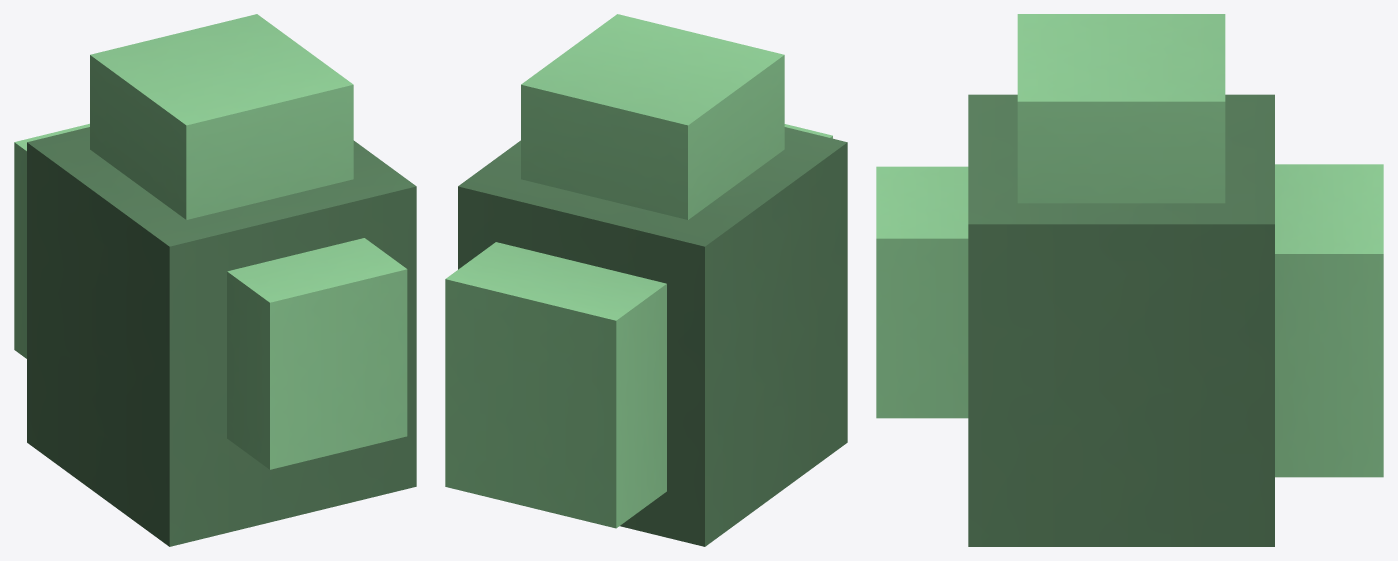
Rendered from Bush_1.fbx.
3 views of the same model, side by side, from view 1: azimuth 30°, elevation 25°; view 2: azimuth 150°, elevation 25°; view 3: azimuth 270°, elevation 25° (orthographic). The views are drawn at different scales.
Parts seen in each view (by area): view 1: Cube.001; view 2: Cube.001; view 3: Cube.001.
Part boxes in pixels (x1,y1,x2,y2): Cube.001: (14,14,416,546); Cube.001: (445,14,847,546); Cube.001: (876,14,1383,546).
Bounding box in the file's own units: 197 × 182 × 119.
